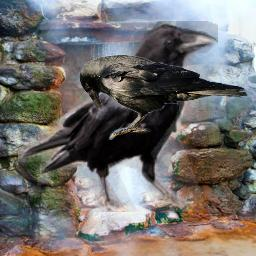Crow: (18, 21, 218, 212), (79, 54, 250, 140)
